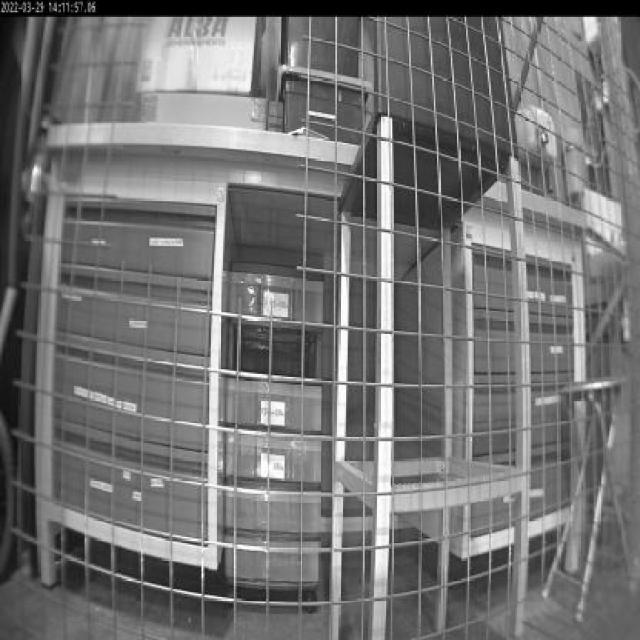fence line: (116, 20, 302, 314)
